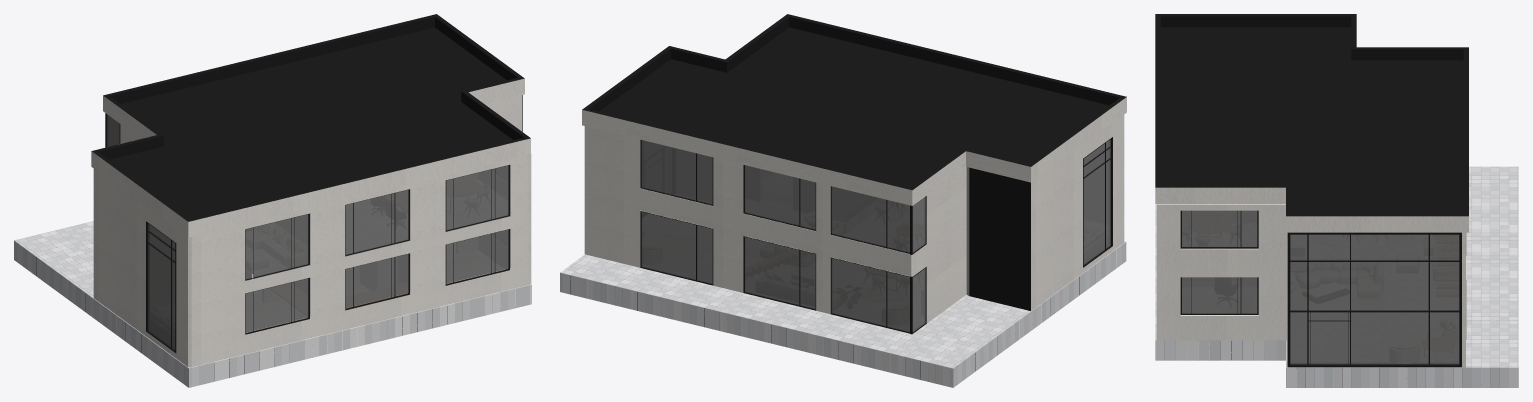
The model's file is oficina.glb.
3 renders of one model, left to right at view 1: azimuth 30°, elevation 25°; view 2: azimuth 150°, elevation 25°; view 3: azimuth 270°, elevation 25°, orthographic. The views are drawn at different scales.
Parts seen in each view (by area): view 1: Cube.002_Material.002_0, Cube.004_Material.001_0, Plane.020_Material.004_0, object 1; view 2: Cube.002_Material.002_0, Cube.004_Material.001_0, Plane.020_Material.004_0, object 1; view 3: Cube.002_Material.002_0, Plane.020_Material.004_0, object 1, Cube.004_Material.001_0.
Boxes of the visible parts, x1=… form: Cube.002_Material.002_0: x1=92, y1=14, x2=530, y2=352; Cube.004_Material.001_0: x1=91, y1=78, x2=531, y2=367; Plane.020_Material.004_0: x1=107, y1=114, x2=510, y2=350; object 1: x1=14, y1=221, x2=531, y2=387; Cube.002_Material.002_0: x1=582, y1=14, x2=1126, y2=334; Cube.004_Material.001_0: x1=582, y1=97, x2=1126, y2=323; Plane.020_Material.004_0: x1=641, y1=139, x2=1110, y2=332; object 1: x1=560, y1=241, x2=1126, y2=387; Cube.002_Material.002_0: x1=1155, y1=14, x2=1468, y2=367; Plane.020_Material.004_0: x1=1182, y1=210, x2=1459, y2=364; object 1: x1=1155, y1=166, x2=1518, y2=387; Cube.004_Material.001_0: x1=1155, y1=187, x2=1468, y2=367.
Size of the model in its own units: 0.5144 by 0.2045 by 0.3901.
Materials: 17 (17 with a texture image).
